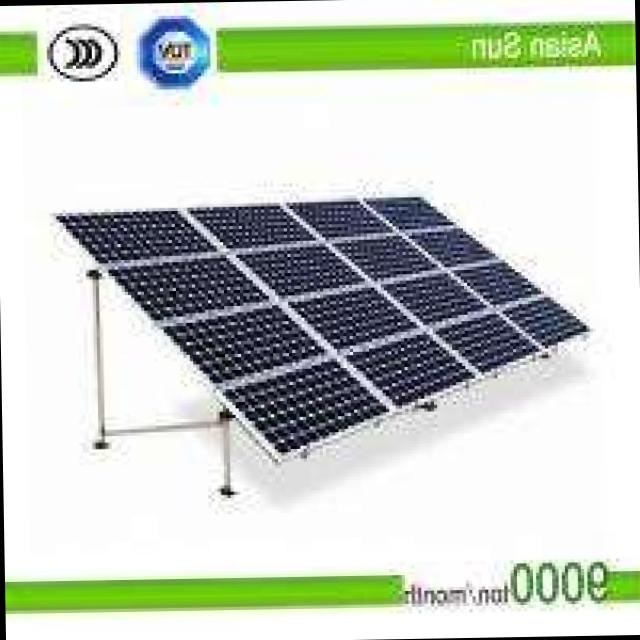no faulty: (54, 201, 583, 453)
